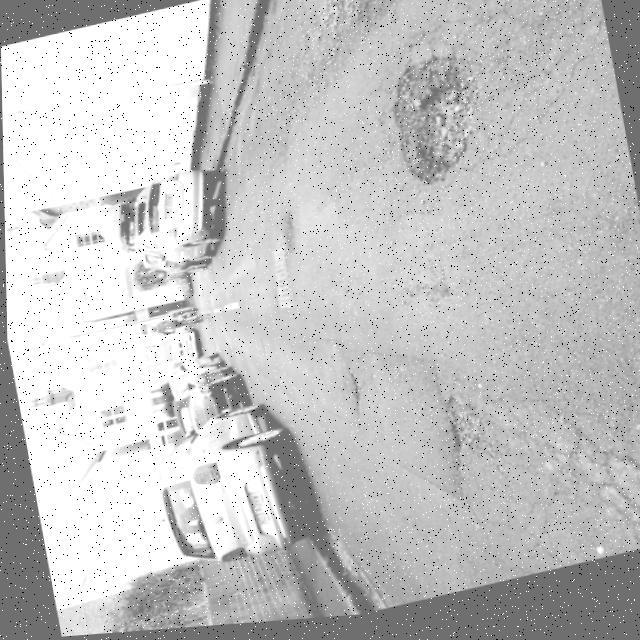pothole: (374, 50, 496, 205)
